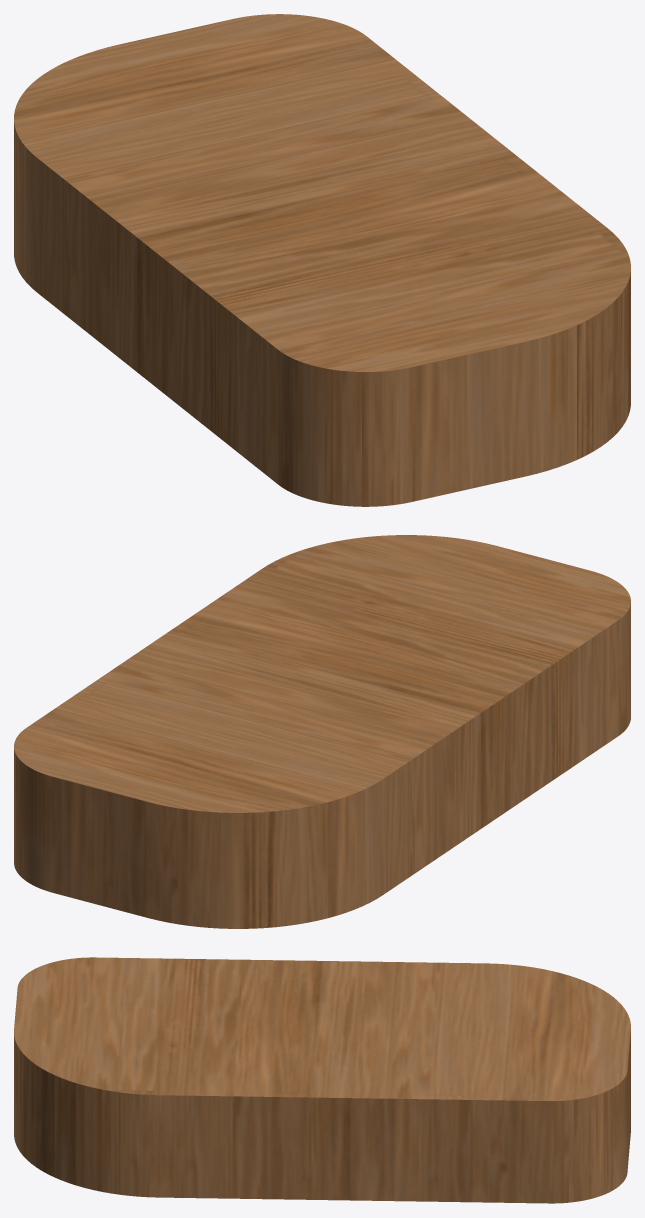
The model's file is Table.glb.
3 renders of one model, top to bottom at view 1: azimuth 30°, elevation 25°; view 2: azimuth 150°, elevation 25°; view 3: azimuth 270°, elevation 25°, orthographic. The views are drawn at different scales.
Parts seen in each view (by area): view 1: Geom3D_Tisch; view 2: Geom3D_Tisch; view 3: Geom3D_Tisch.
Part boxes in pixels (bbox=[...]): Geom3D_Tisch: bbox=[14, 14, 630, 506]; Geom3D_Tisch: bbox=[14, 535, 630, 928]; Geom3D_Tisch: bbox=[14, 957, 630, 1203].
Bounding box in the file's own units: 0.9032 × 0.3 × 1.64.
1 material, 1 textured.
